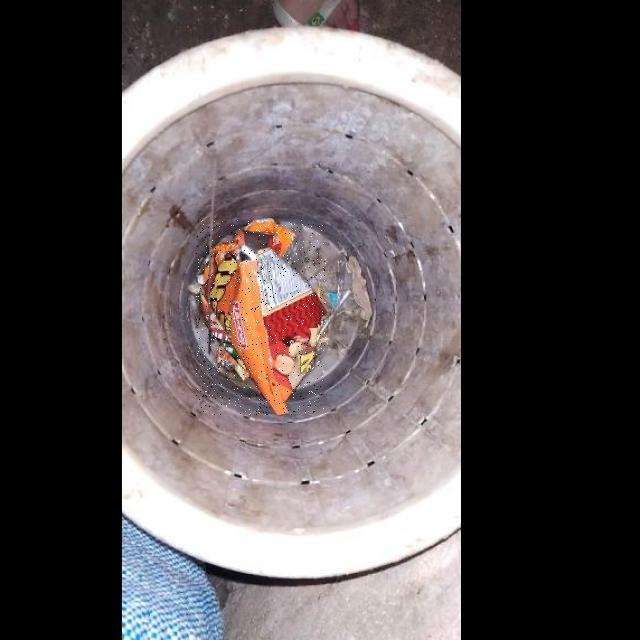wrapper: (196, 220, 326, 414)
